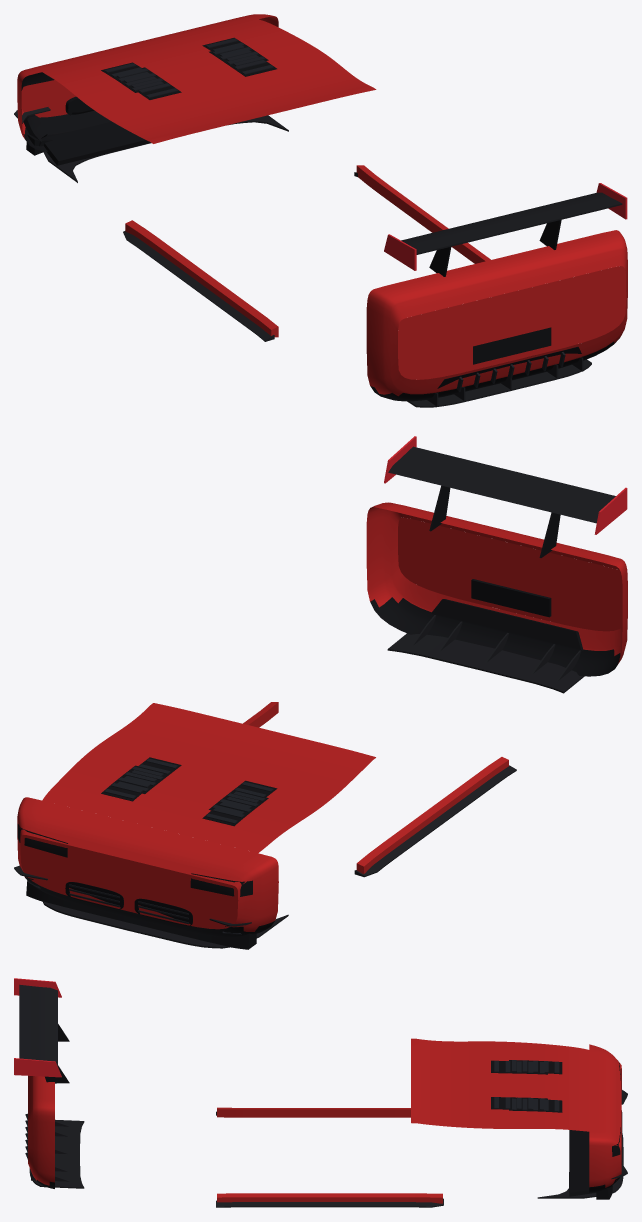
The model's file is kit_track.glb.
3 views of the same model, one above another, from view 1: azimuth 30°, elevation 25°; view 2: azimuth 150°, elevation 25°; view 3: azimuth 270°, elevation 25° (orthographic). The views are drawn at different scales.
Parts seen in each view (by area): view 1: bumper_front__track, hood__track, bumper_rear__track, spoiler__track, skirts__track; view 2: bumper_front__track, hood__track, bumper_rear__track, spoiler__track, skirts__track; view 3: hood__track, bumper_front__track, skirts__track, bumper_rear__track, spoiler__track.
Boxes of the visible parts, x1,y1,x2,y2 form: bumper_front__track: (14,14,626,379); hood__track: (42,19,376,143); bumper_rear__track: (366,230,627,407); spoiler__track: (384,183,627,276); skirts__track: (123,165,490,341); bumper_front__track: (14,517,622,949); hood__track: (42,703,375,852); bumper_rear__track: (366,502,627,693); spoiler__track: (384,436,627,557); skirts__track: (243,702,516,877); hood__track: (411,1038,589,1131); bumper_front__track: (537,1044,627,1199); skirts__track: (216,1107,443,1207); bumper_rear__track: (25,1076,84,1188); spoiler__track: (14,978,69,1083).
Size of what is drawn, in the model's own units: 1.77 by 1.2 by 4.73.
